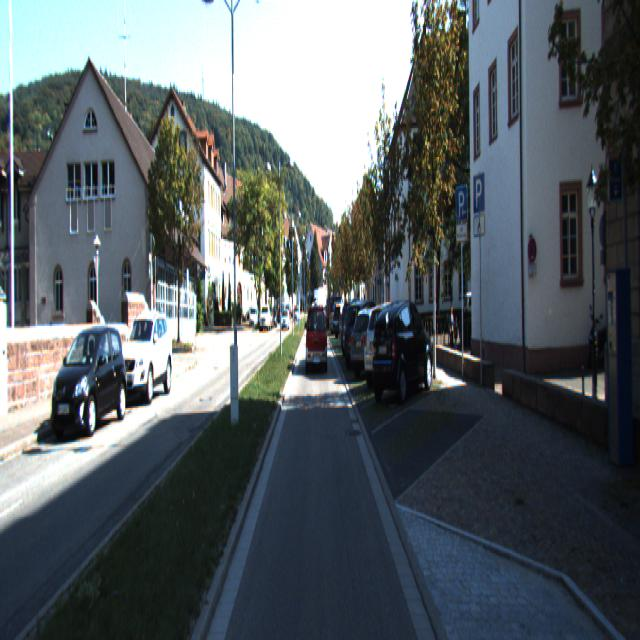Car: (49, 326, 130, 439), (370, 297, 434, 404), (363, 302, 424, 391), (115, 314, 173, 406), (347, 305, 402, 379), (342, 300, 389, 372), (306, 305, 328, 373), (326, 296, 348, 327)
